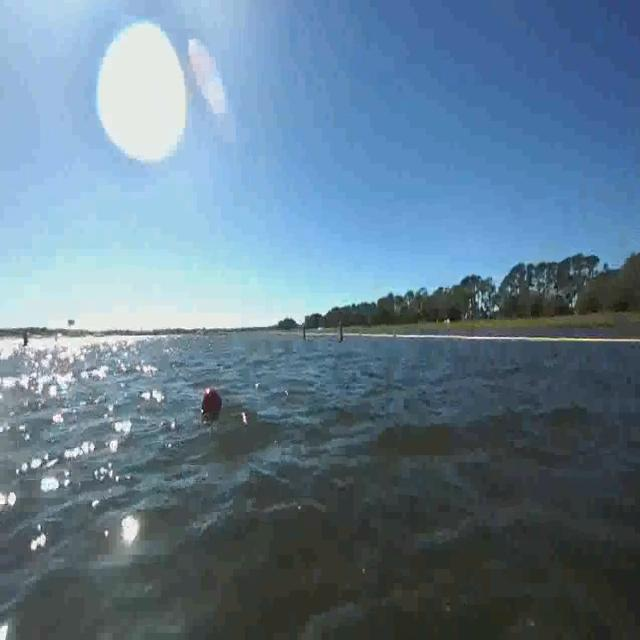red-buoy: (200, 388, 222, 417)
